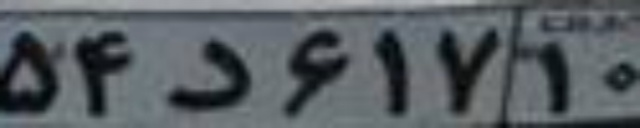0: (599, 62, 637, 90)
1: (373, 31, 408, 112), (536, 41, 571, 113)
4: (75, 31, 130, 116)
5: (0, 30, 60, 113)
6: (279, 30, 351, 114)
7: (436, 27, 493, 115)
dal: (164, 40, 250, 108)
